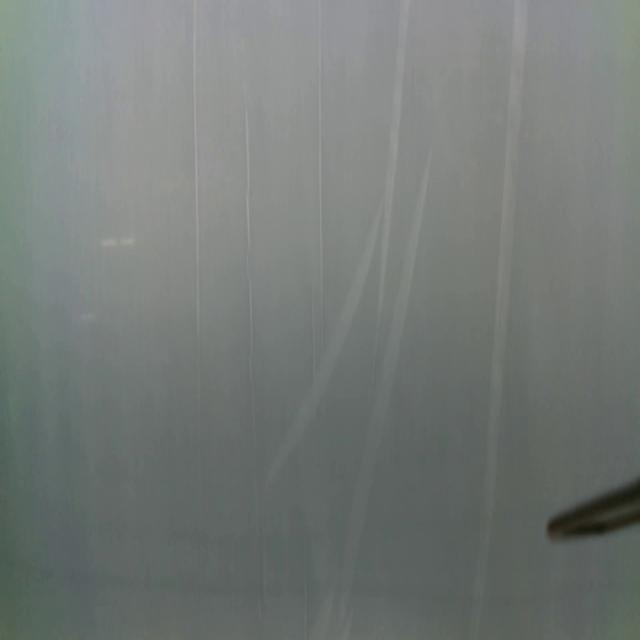crease: (339, 148, 436, 622), (468, 0, 530, 634), (260, 191, 384, 487), (371, 0, 409, 356), (242, 86, 258, 400), (191, 2, 202, 420), (317, 1, 325, 338), (310, 280, 316, 374)
